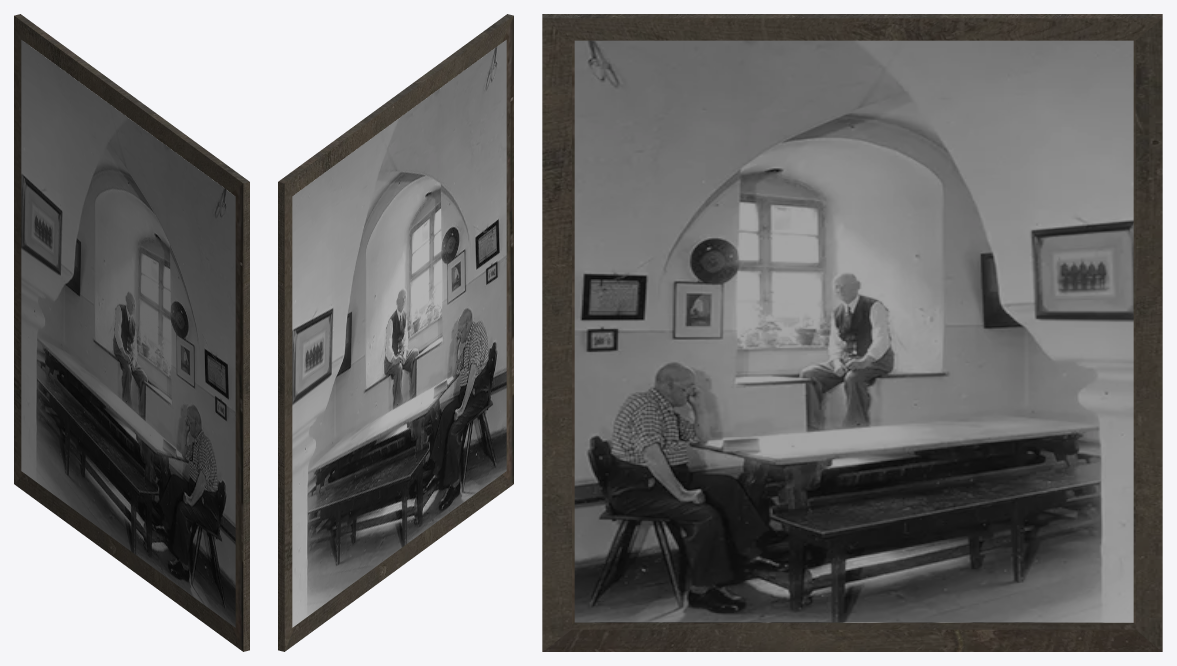
The model's file is Bruederstube_Bild_2.glb.
3 renders of one model, left to right at view 1: azimuth 30°, elevation 25°; view 2: azimuth 150°, elevation 25°; view 3: azimuth 270°, elevation 25°, orthographic. The views are drawn at different scales.
Parts seen in each view (by area): view 1: Cube.005; view 2: Cube.005; view 3: Cube.005.
Boxes of the visible parts, x1,y1,x2,y2 form: Cube.005: (14, 14, 249, 651); Cube.005: (278, 14, 513, 651); Cube.005: (542, 14, 1162, 651).
Size of the model in its own units: 0.0668 by 4.45 by 3.95.
2 materials, 2 textured.
